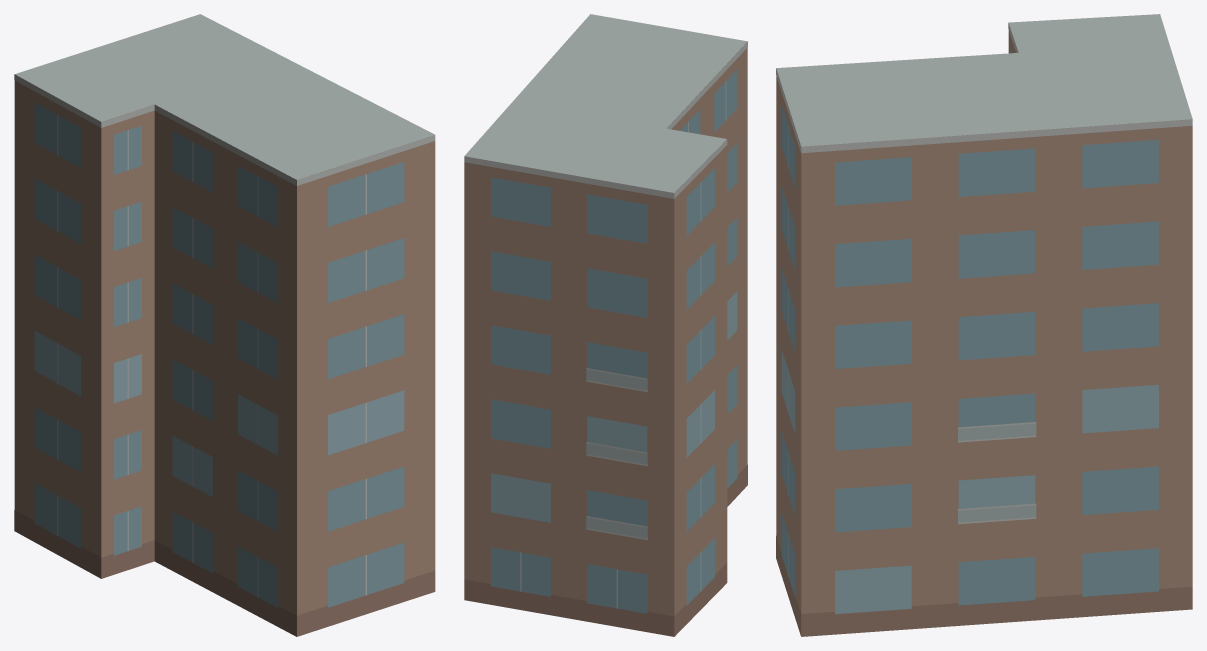
The model's file is survey-upis-32563728.glb.
3 renders of one model, left to right at view 1: azimuth 30°, elevation 25°; view 2: azimuth 150°, elevation 25°; view 3: azimuth 270°, elevation 25°, orthographic. The views are drawn at different scales.
Visible parts, largest first — view 1: survey-upis-32563728.tmp; view 2: survey-upis-32563728.tmp; view 3: survey-upis-32563728.tmp.
Part boxes in pixels (box(x1,y1,x2,y2)): survey-upis-32563728.tmp: box(14, 14, 435, 636); survey-upis-32563728.tmp: box(464, 14, 747, 636); survey-upis-32563728.tmp: box(776, 14, 1192, 636).
Bounding box in the file's own units: 10.64 × 18.3 × 14.11.
